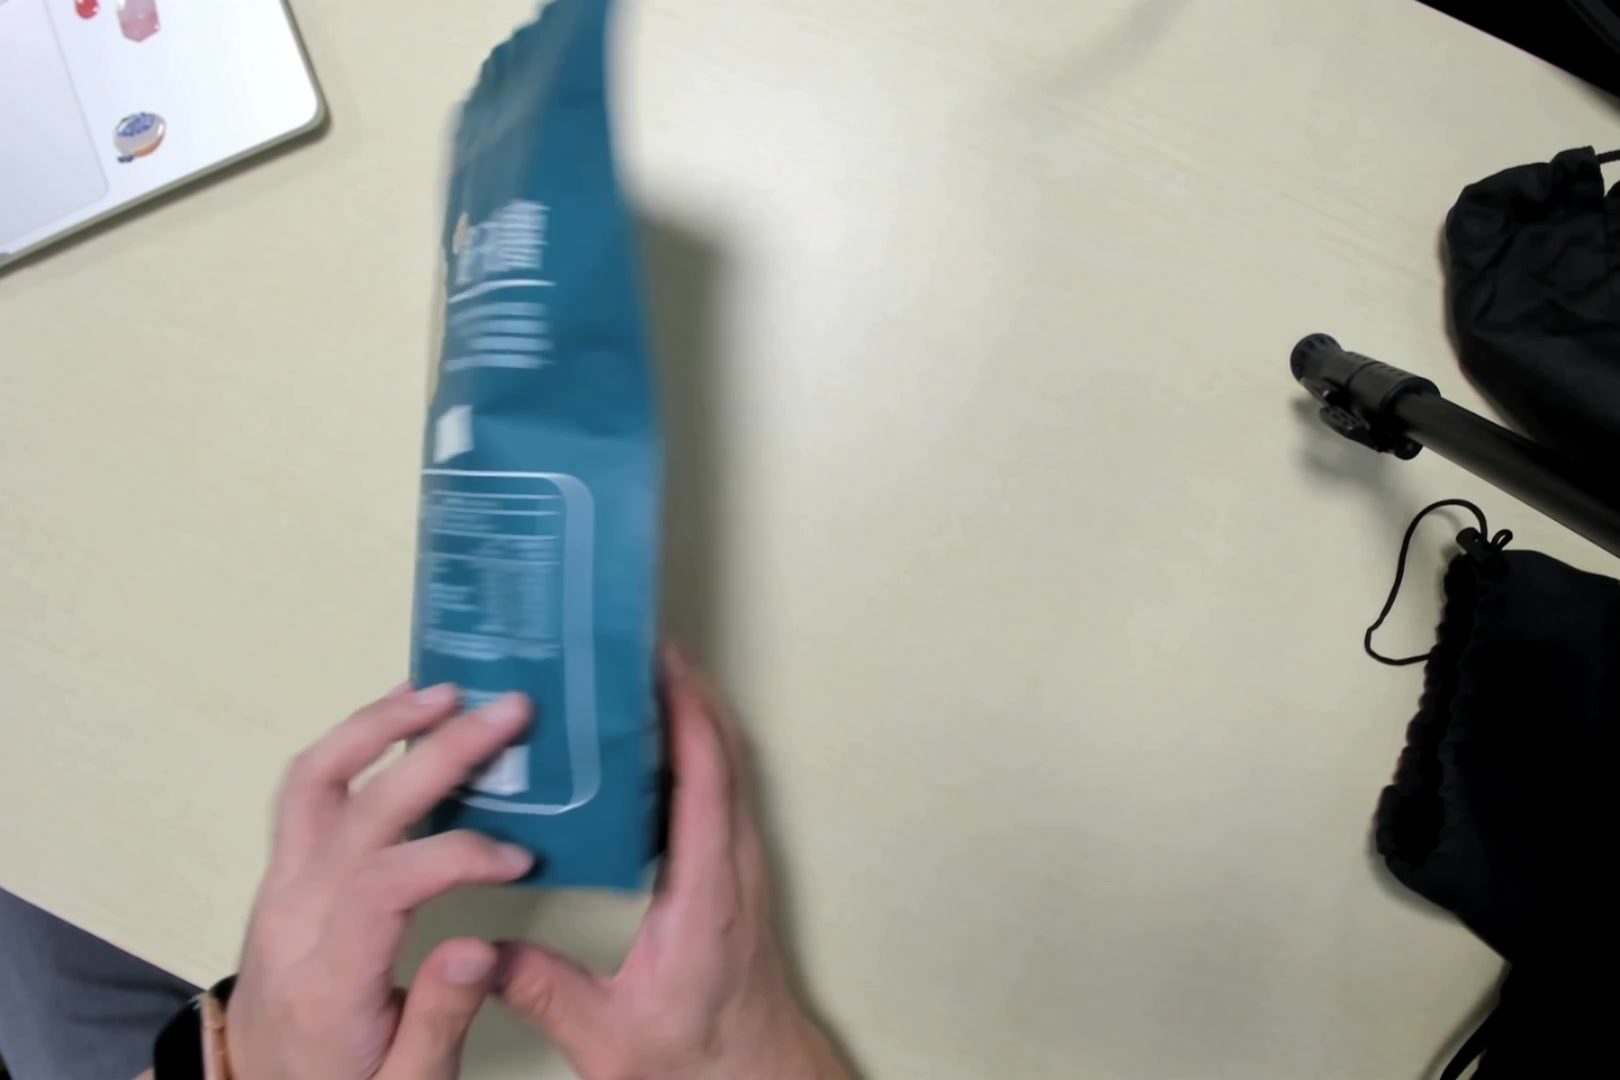PotatoChipsKeropok_100-199g_NonHalal_NonHealthy: (418, 5, 668, 891)
